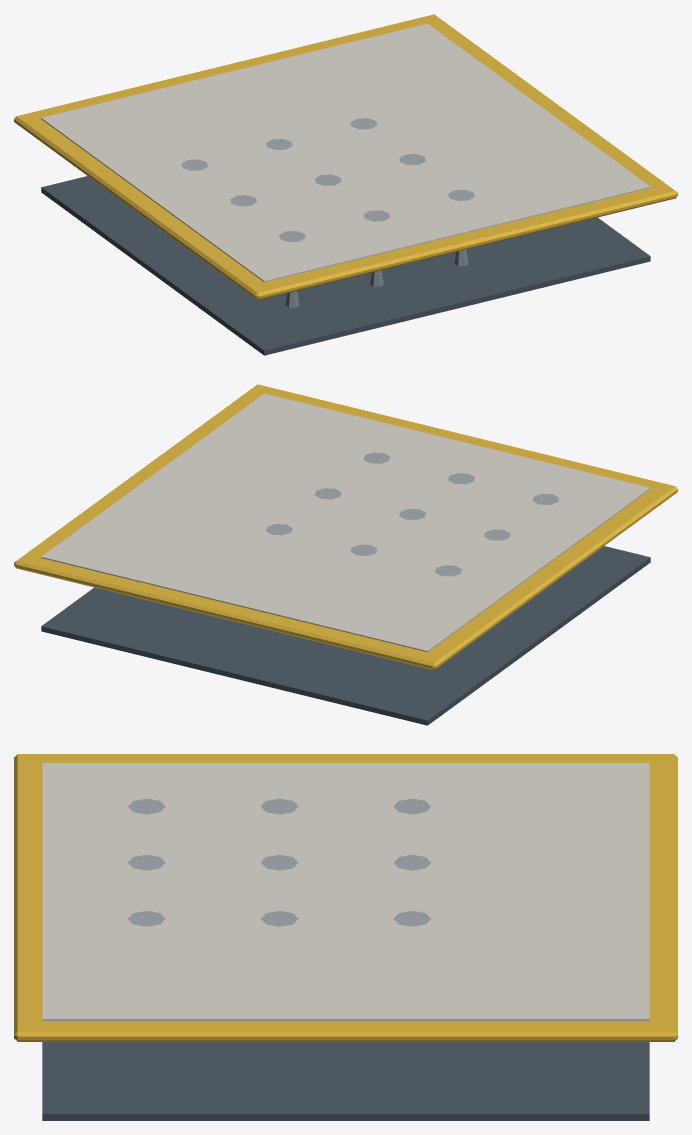
Rendered from trap.fbx.
The picture shows the model from 3 angles, top to bottom: view 1: azimuth 30°, elevation 25°; view 2: azimuth 150°, elevation 25°; view 3: azimuth 270°, elevation 25°; orthographic projection. The views are drawn at different scales.
Visible parts, largest first — view 1: trap, Spikes; view 2: trap, Spikes; view 3: trap, Spikes.
Boxes of the visible parts, box(x1,y1,x2,y2) form: trap: box(14, 14, 677, 300); Spikes: box(41, 176, 650, 355); trap: box(14, 384, 677, 670); Spikes: box(41, 546, 650, 725); trap: box(14, 754, 677, 1041); Spikes: box(42, 1042, 649, 1120).
Size of the model in its own units: 3.5 by 0.592 by 3.5.
